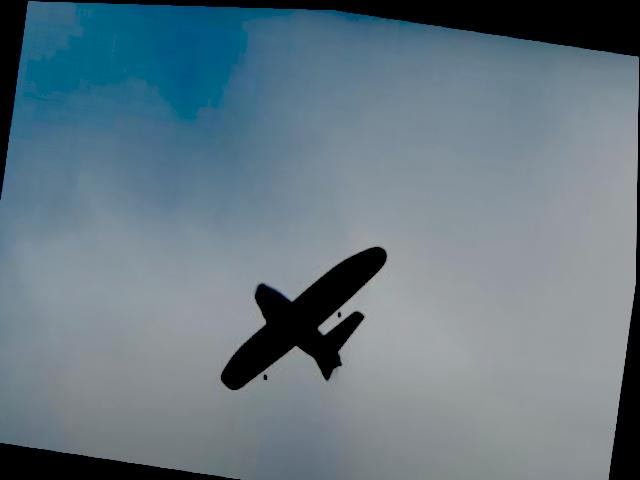uav: (214, 208, 397, 422)
